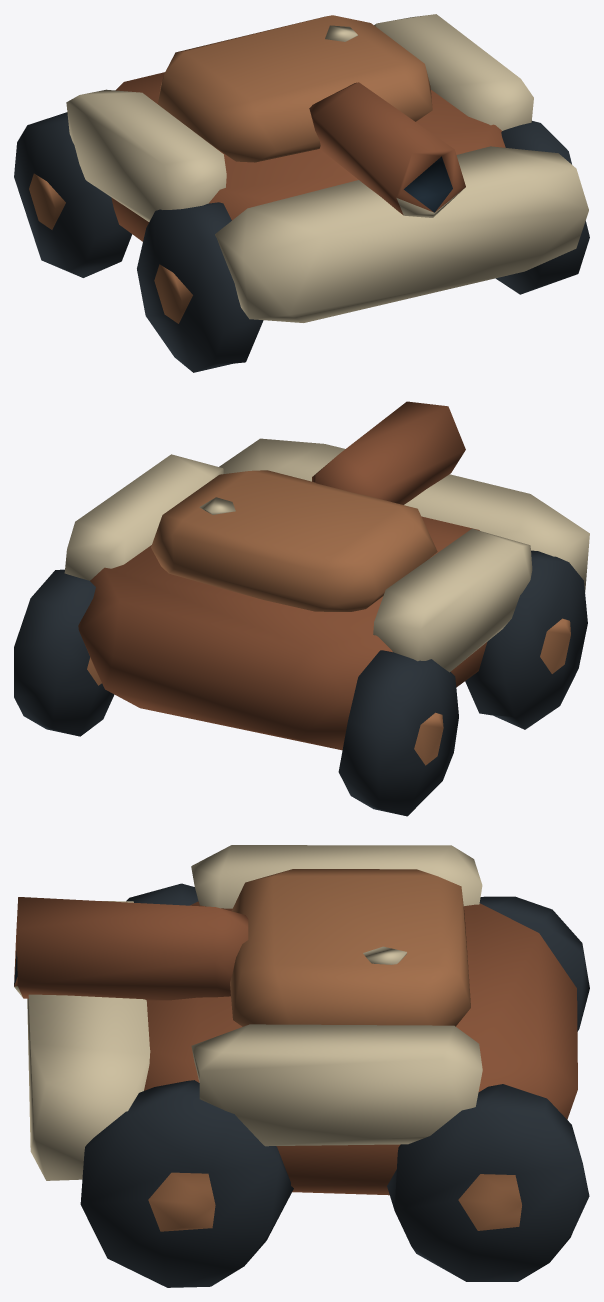
Rendered from TOY_ROOKIE.shadow.glb.
3 renders of one model, top to bottom at view 1: azimuth 30°, elevation 25°; view 2: azimuth 150°, elevation 25°; view 3: azimuth 270°, elevation 25°, orthographic. The views are drawn at different scales.
Visible parts, largest first — view 1: Body, TurretYaw, WheelsFront, BarrelRecoil, WheelsRear; view 2: Body, TurretYaw, WheelsRear, WheelsFront, BarrelRecoil; view 3: Body, TurretYaw, WheelsRear, WheelsFront, BarrelRecoil.
Boxes of the visible parts, <box> form: Body: <box>66,14,588,322</box>; TurretYaw: <box>158,15,432,162</box>; WheelsFront: <box>137,121,589,372</box>; BarrelRecoil: <box>309,82,465,217</box>; WheelsRear: <box>14,112,132,277</box>; Body: <box>64,438,589,750</box>; TurretYaw: <box>151,470,437,611</box>; WheelsRear: <box>14,569,458,816</box>; WheelsFront: <box>465,550,587,729</box>; BarrelRecoil: <box>312,401,465,504</box>; Body: <box>27,845,577,1195</box>; TurretYaw: <box>230,869,470,1026</box>; WheelsRear: <box>387,896,589,1281</box>; WheelsFront: <box>80,883,293,1287</box>; BarrelRecoil: <box>14,897,248,1000</box>.
Size of the model in its own units: 0.7427 by 0.4184 by 0.7773.
